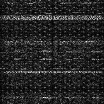lte: (1, 14, 104, 20), (1, 70, 104, 73)
